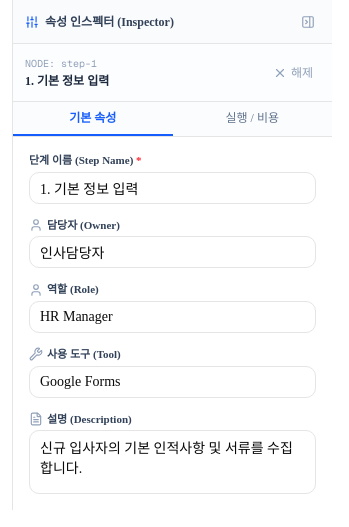
Test case: PHASE 07: Properties Panel Form & Inline Node Editing › 7. 노드 선택 해제(Deselect) 버튼을 누르면 Empty State로 복귀한다
Click the button with test id "deselect-node-btn": (293, 72) x1=266 y1=60 x2=320 y2=84
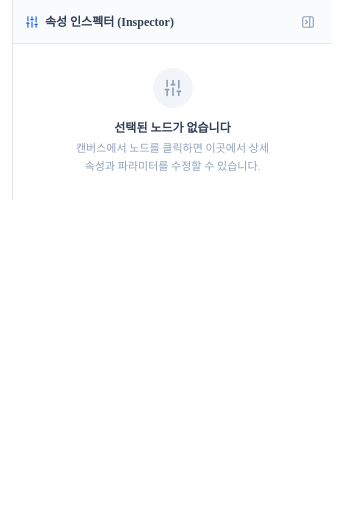
Now the element with test id "properties-empty-state" is shown, box x1=76 y1=68 x2=269 y2=172
